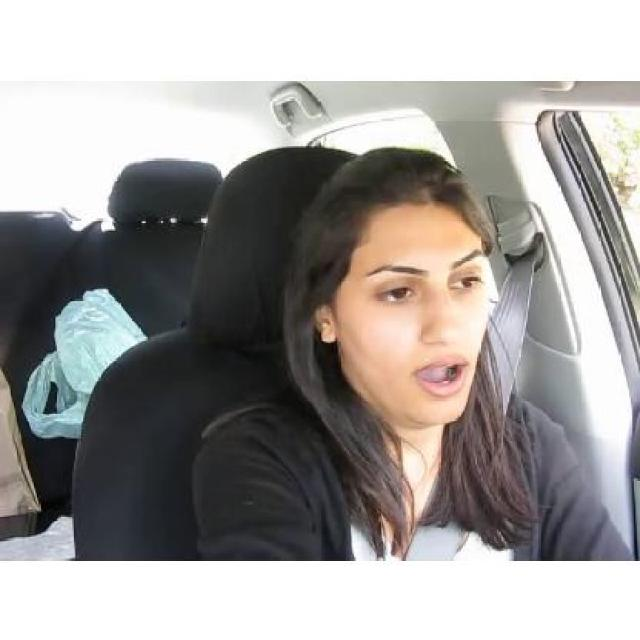inattentif: (310, 145, 490, 427)
